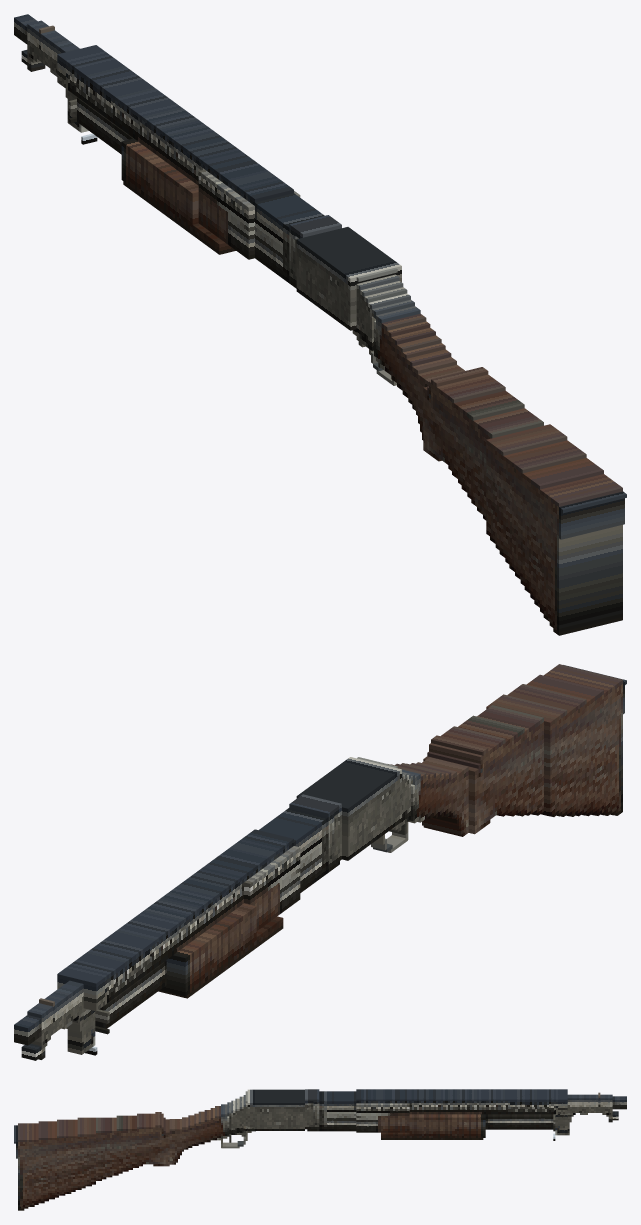
3 views of the same model, one above another, from view 1: azimuth 30°, elevation 25°; view 2: azimuth 150°, elevation 25°; view 3: azimuth 270°, elevation 25° (orthographic). The views are drawn at different scales.
Parts seen in each view (by area): view 1: download (2); view 2: download (2); view 3: download (2).
Part boxes in pixels (left/top/right/bottom): download (2): left=14, top=14, right=626, bottom=635; download (2): left=14, top=664, right=626, bottom=1060; download (2): left=14, top=1089, right=626, bottom=1210.
Bounding box in the file's own units: 0.0642 × 0.1933 × 0.9967.
Materials: 1 (1 with a texture image).
